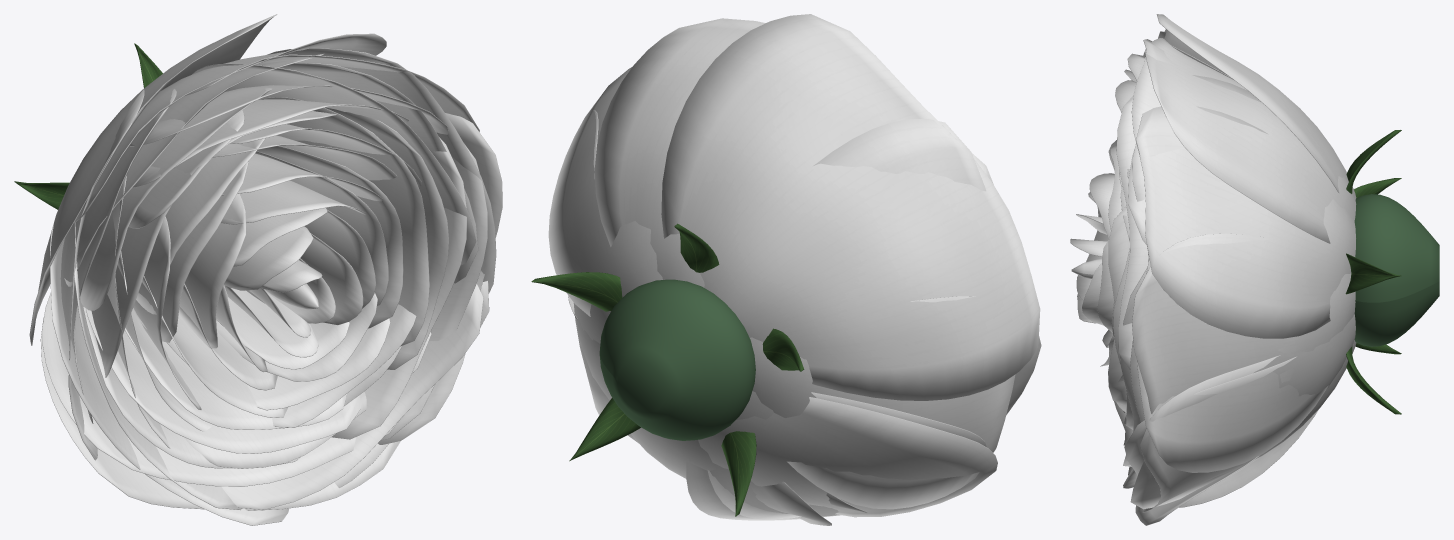
File: rose-1-balanced.glb
The picture shows the model from 3 angles, left to right: view 1: azimuth 30°, elevation 25°; view 2: azimuth 150°, elevation 25°; view 3: azimuth 270°, elevation 25°; orthographic projection. The views are drawn at different scales.
Visible parts, largest first — view 1: Rose_1_balanced_Petals, Rose_1_balanced_Sepals; view 2: Rose_1_balanced_Petals, Rose_1_balanced_Receptacle, Rose_1_balanced_Sepals; view 3: Rose_1_balanced_Petals, Rose_1_balanced_Receptacle, Rose_1_balanced_Sepals.
Boxes of the visible parts, bbox=[...] form: Rose_1_balanced_Petals: bbox=[29, 14, 502, 525]; Rose_1_balanced_Sepals: bbox=[14, 43, 162, 209]; Rose_1_balanced_Petals: bbox=[548, 14, 1041, 525]; Rose_1_balanced_Receptacle: bbox=[599, 279, 755, 440]; Rose_1_balanced_Sepals: bbox=[531, 223, 804, 516]; Rose_1_balanced_Petals: bbox=[1070, 14, 1356, 525]; Rose_1_balanced_Receptacle: bbox=[1354, 194, 1439, 346]; Rose_1_balanced_Sepals: bbox=[1345, 130, 1401, 414].
Size of the model in its own units: 0.6899 by 0.7127 by 0.5066.
3 materials, 2 textured.
